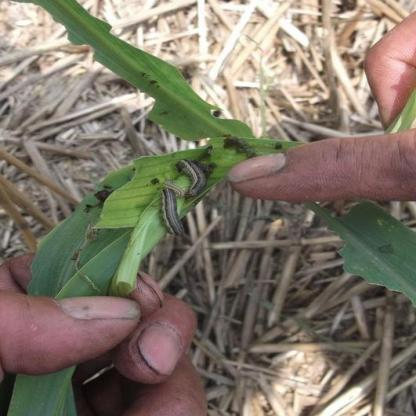armyworm: (152, 180, 188, 240), (177, 153, 208, 209)
